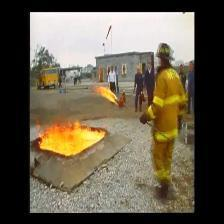fire: (32, 116, 108, 157), (93, 84, 119, 103)
